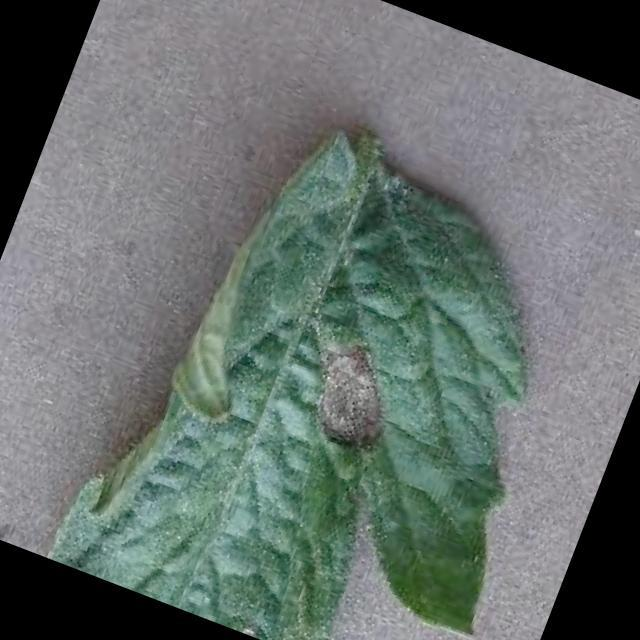Tomato Early blight leaf: (44, 85, 624, 640)
